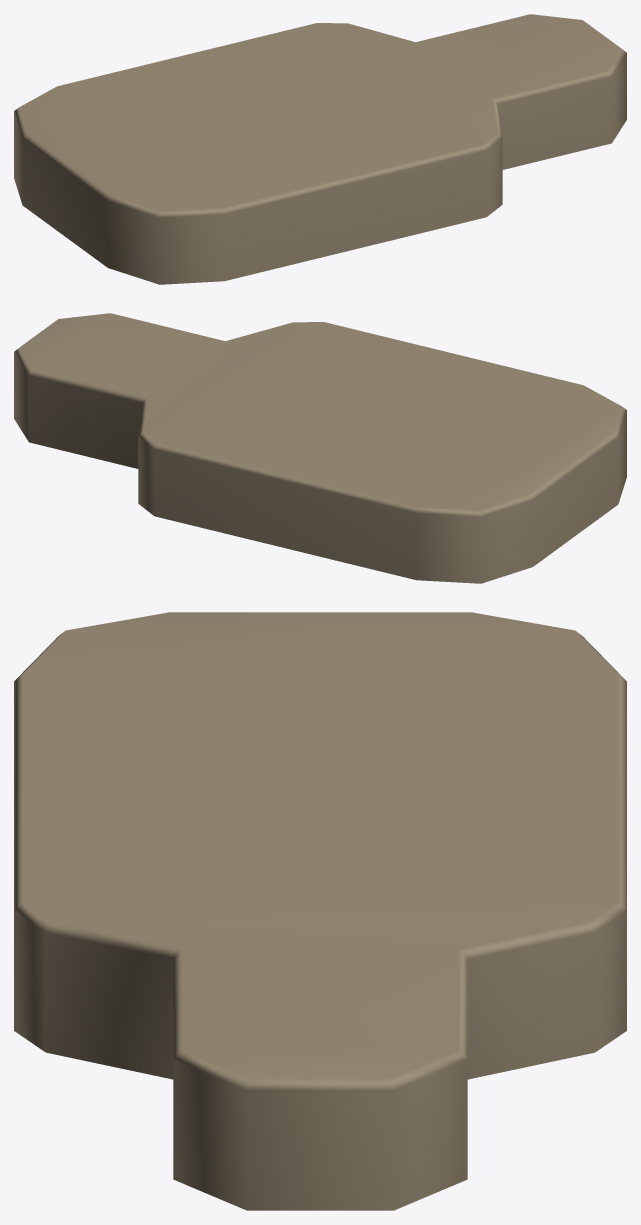
The model's file is SM_CuttingBoard.fbx.
The picture shows the model from 3 angles, top to bottom: view 1: azimuth 30°, elevation 25°; view 2: azimuth 150°, elevation 25°; view 3: azimuth 270°, elevation 25°; orthographic projection. The views are drawn at different scales.
Parts seen in each view (by area): view 1: pCube25; view 2: pCube25; view 3: pCube25.
Part boxes in pixels (x1,y1,x2,y2): pCube25: (14,14,626,284); pCube25: (14,313,626,583); pCube25: (14,612,626,1210).
Size of the model in its own units: 58.58 by 7.39 by 32.03.
